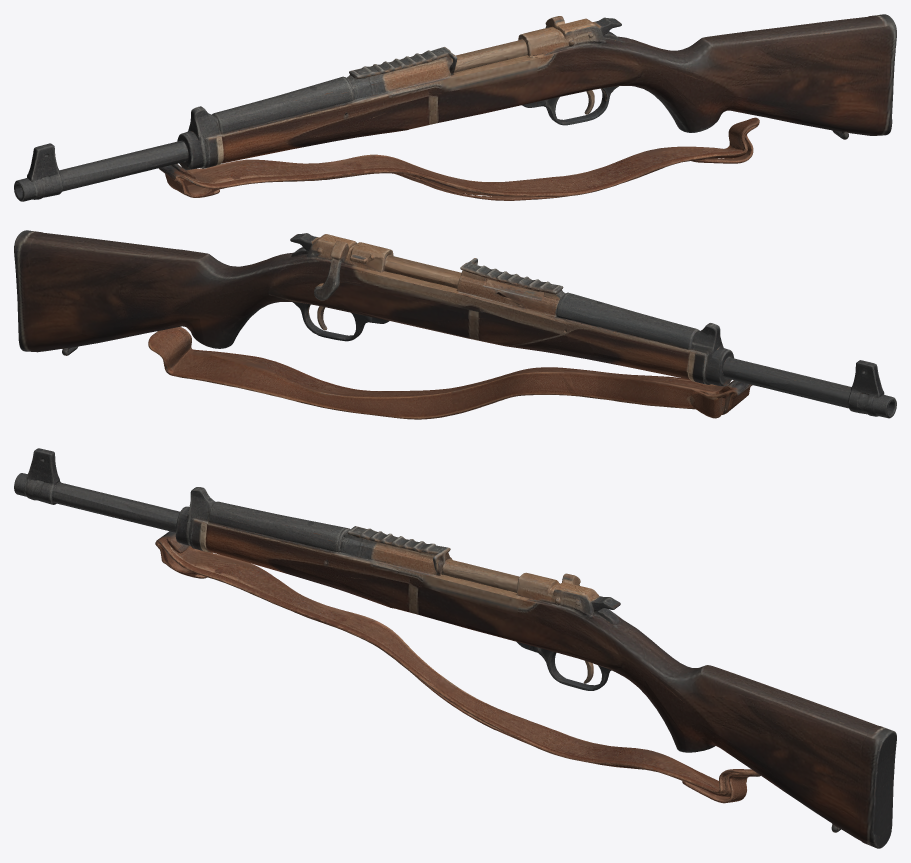
File: rifle_prop.glb
The picture shows the model from 3 angles, top to bottom: view 1: azimuth 30°, elevation 25°; view 2: azimuth 150°, elevation 25°; view 3: azimuth 330°, elevation 25°; orthographic projection.
Size of the model in its own units: 1.9 by 0.4014 by 0.1196.
1 material, 1 textured.
